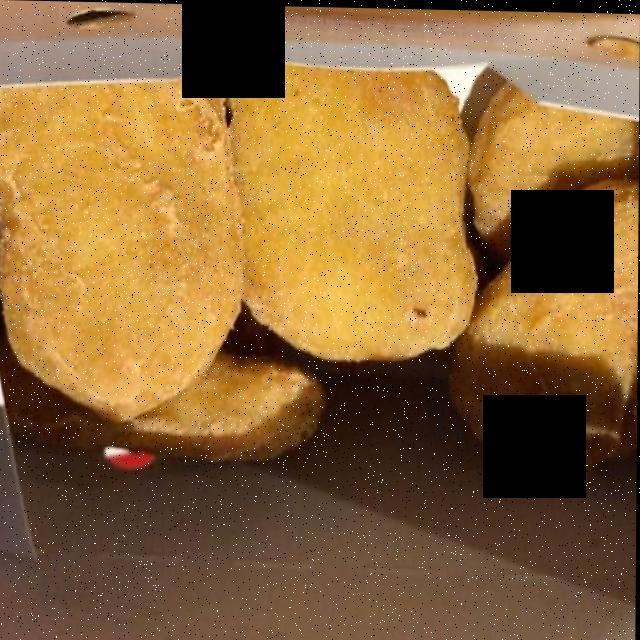potatoes: (2, 66, 627, 473)
